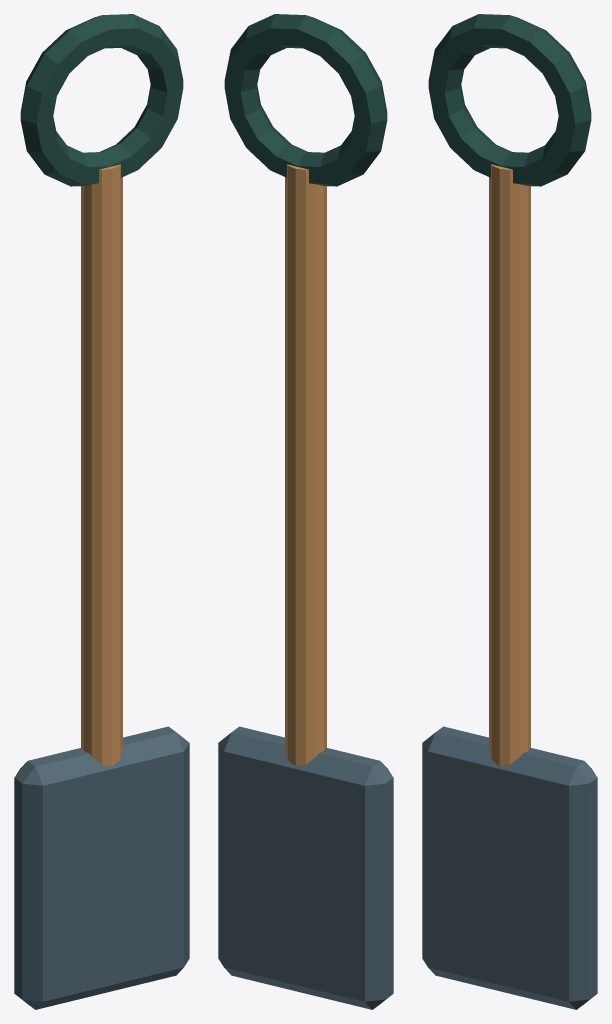
File: market_13_Shovel.glb
3 views of the same model, side by side, from view 1: azimuth 30°, elevation 25°; view 2: azimuth 150°, elevation 25°; view 3: azimuth 330°, elevation 25° (orthographic).
Visible parts, largest first — view 1: 13_Shovel; view 2: 13_Shovel; view 3: 13_Shovel.
Boxes of the visible parts, x1,y1,x2,y2 form: 13_Shovel: [14, 14, 189, 1009]; 13_Shovel: [218, 14, 393, 1009]; 13_Shovel: [422, 14, 597, 1009].
Size of the model in its own units: 0.23 by 1.28 by 0.055.
